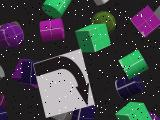Right: (33, 49, 95, 118)
